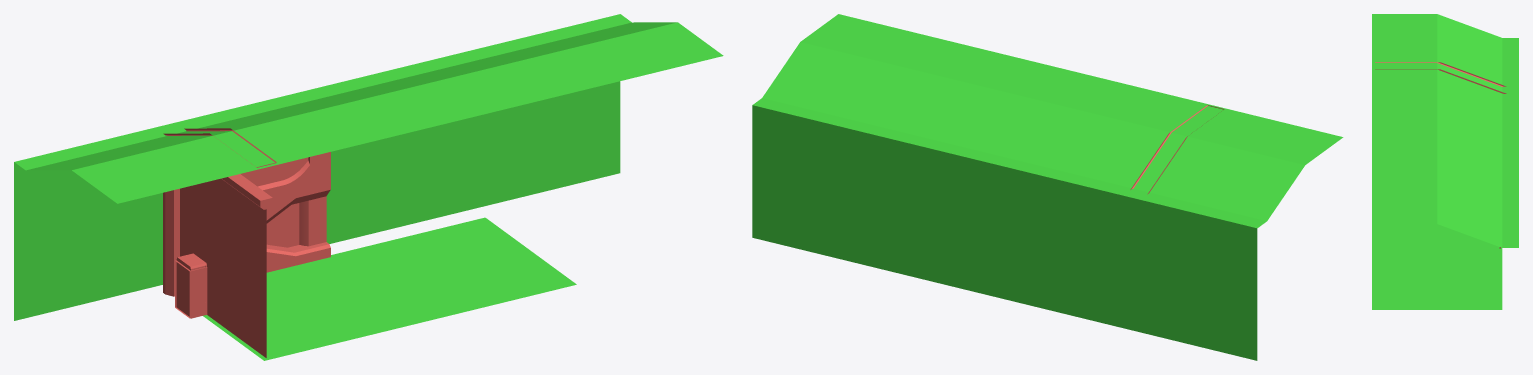
Rendered from WorkshopScene_Room.fbx.
3 renders of one model, left to right at view 1: azimuth 30°, elevation 25°; view 2: azimuth 150°, elevation 25°; view 3: azimuth 270°, elevation 25°, orthographic. The views are drawn at different scales.
Visible parts, largest first — view 1: Room_RearOccluder, Cube, Wall_DoorWauy, Wall_Rear, WallReadPillar.001; view 2: Room_RearOccluder; view 3: Room_RearOccluder, Cube, WallReadPillar.001.
Boxes of the visible parts, x1,y1,x2,y2 form: Room_RearOccluder: (14, 14, 723, 320); Cube: (203, 217, 576, 360); Wall_DoorWauy: (175, 178, 266, 357); Wall_Rear: (241, 152, 330, 272); WallReadPillar.001: (163, 128, 276, 296); Room_RearOccluder: (752, 14, 1343, 360); Room_RearOccluder: (1372, 14, 1518, 247); Cube: (1372, 224, 1502, 309); WallReadPillar.001: (1375, 62, 1506, 93).
Bounding box in the file's own units: 3987 × 1217 × 1177.
